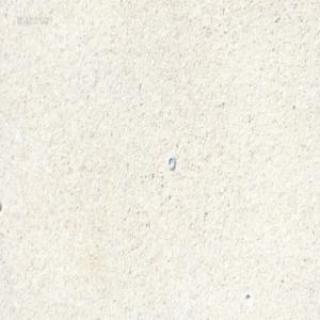Washertrack_idkeyframe: (167, 154, 174, 170)
